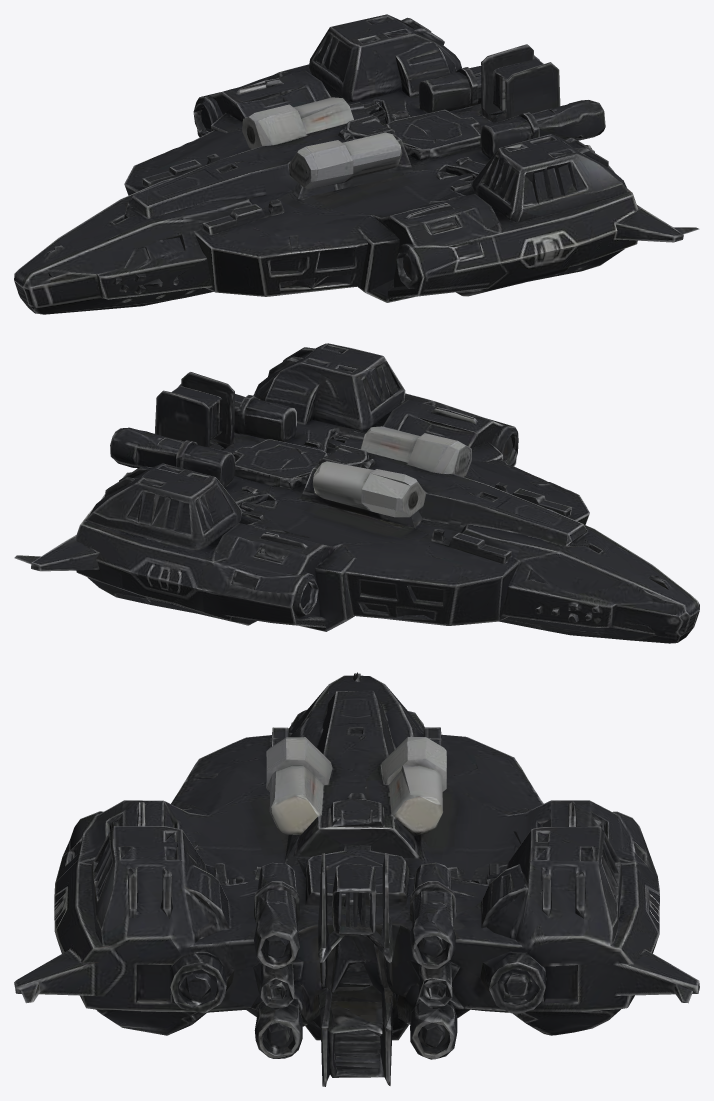
Rendered from enemy-vulcan-fighter.glb.
The picture shows the model from 3 angles, top to bottom: view 1: azimuth 30°, elevation 25°; view 2: azimuth 150°, elevation 25°; view 3: azimuth 270°, elevation 25°; orthographic projection. The views are drawn at different scales.
Bounding box in the file's own units: 1.9 × 0.5575 × 1.62.
1 material, 1 textured.
